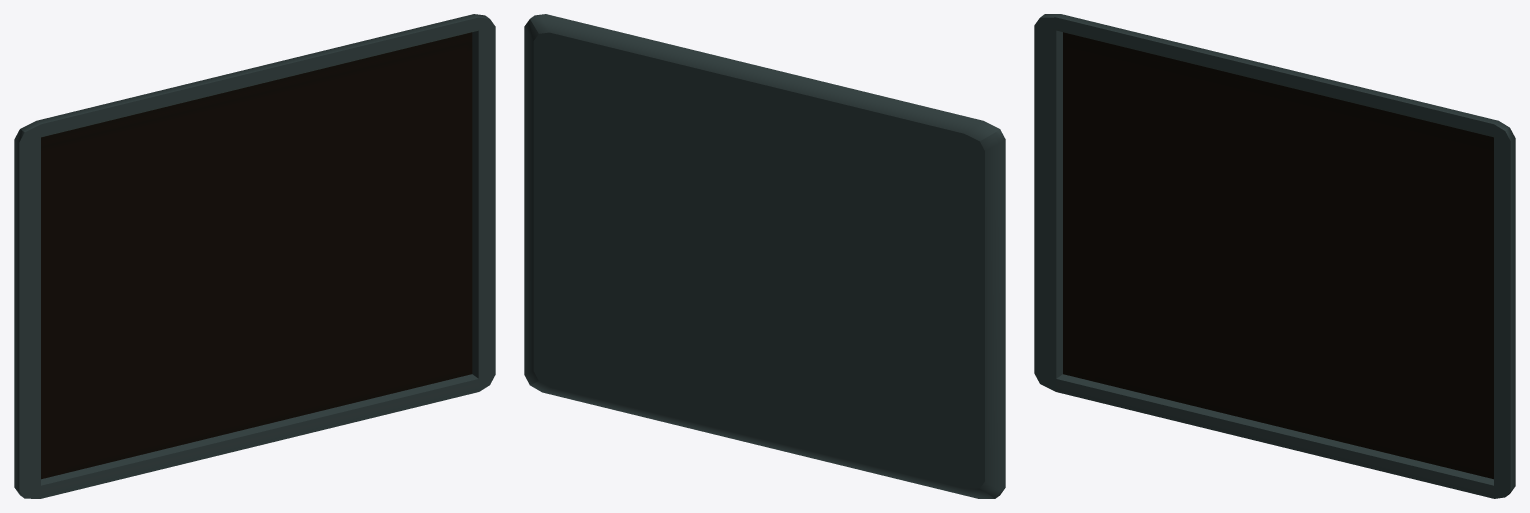
The model's file is Tablet.fbx.
The picture shows the model from 3 angles, left to right: view 1: azimuth 30°, elevation 25°; view 2: azimuth 150°, elevation 25°; view 3: azimuth 330°, elevation 25°; orthographic projection.
Parts seen in each view (by area): view 1: Tablet; view 2: Tablet; view 3: Tablet.
Boxes of the visible parts, x1,y1,x2,y2 form: Tablet: (14, 14, 495, 498); Tablet: (524, 14, 1005, 498); Tablet: (1034, 14, 1515, 498).
Bounding box in the file's own units: 0.0278 × 0.0209 × 0.000807.
